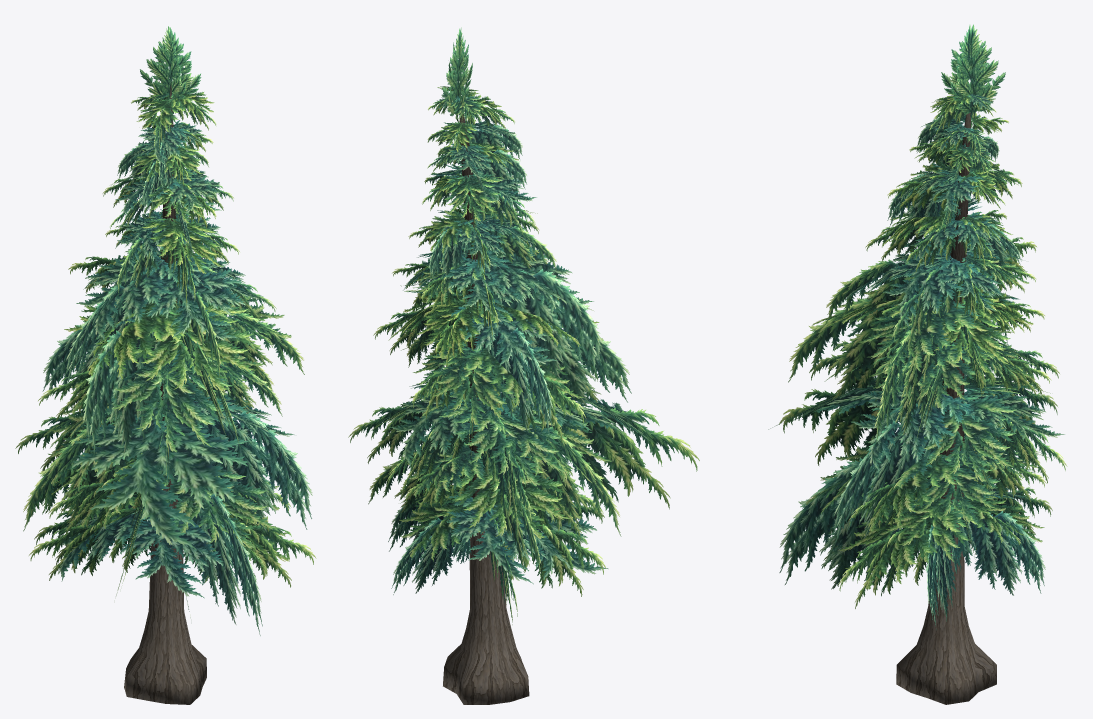
The model's file is tree_pine_tall_a.glb.
3 views of the same model, side by side, from view 1: azimuth 30°, elevation 25°; view 2: azimuth 150°, elevation 25°; view 3: azimuth 270°, elevation 25° (orthographic). The views are drawn at different scales.
Parts seen in each view (by area): view 1: tree_pine_tall_a; view 2: tree_pine_tall_a; view 3: tree_pine_tall_a.
Part boxes in pixels (bbox=[...]): tree_pine_tall_a: bbox=[15, 26, 316, 704]; tree_pine_tall_a: bbox=[348, 27, 699, 704]; tree_pine_tall_a: bbox=[768, 24, 1067, 704].
Bounding box in the file's own units: 14.54 × 32.62 × 15.17.
2 materials, 2 textured.
